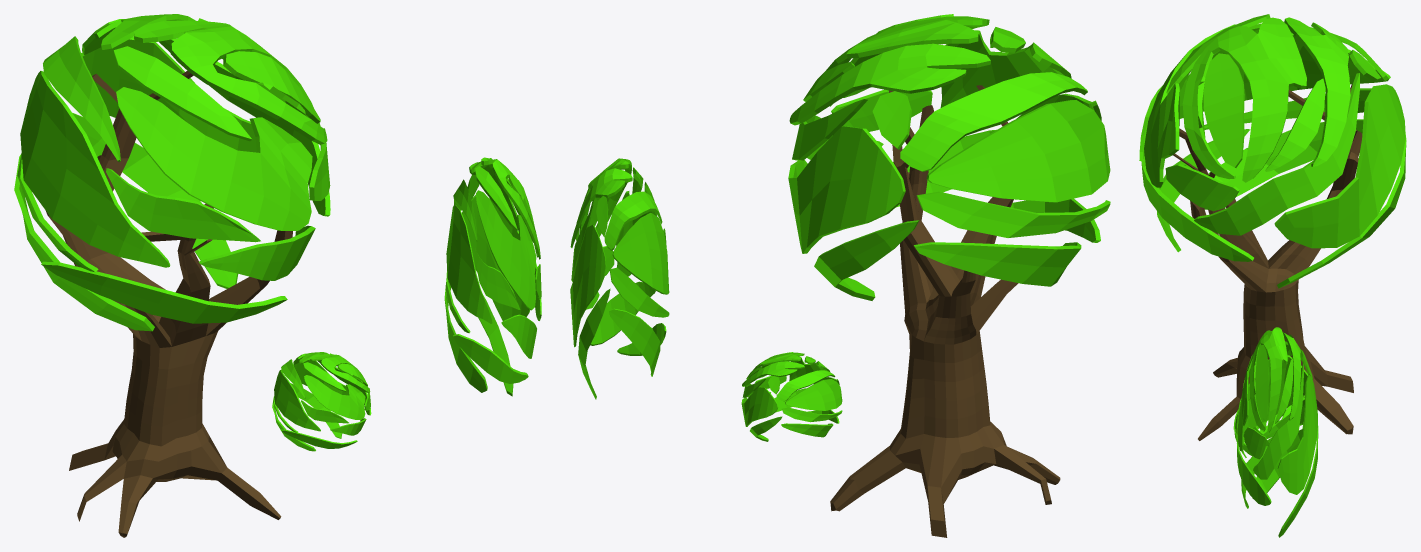
The model's file is tree1.fbx.
3 renders of one model, left to right at view 1: azimuth 30°, elevation 25°; view 2: azimuth 150°, elevation 25°; view 3: azimuth 270°, elevation 25°, orthographic. The views are drawn at different scales.
Visible parts, largest first — view 1: Cube, Cube.002, Cube.001; view 2: Cube, Cube.002, Cube.001; view 3: Cube, Cube.002, Cube.001.
Part boxes in pixels (left/top/right/bottom): Cube: left=14, top=14, right=330, bottom=537; Cube.002: left=444, top=157, right=541, bottom=396; Cube.001: left=272, top=352, right=371, bottom=451; Cube: left=788, top=14, right=1110, bottom=537; Cube.002: left=570, top=158, right=669, bottom=399; Cube.001: left=741, top=352, right=842, bottom=441; Cube: left=1139, top=14, right=1406, bottom=440; Cube.002: left=1236, top=327, right=1318, bottom=537; Cube.001: left=1233, top=395, right=1304, bottom=457.
Size of the model in its own units: 1719 by 1528 by 961.
